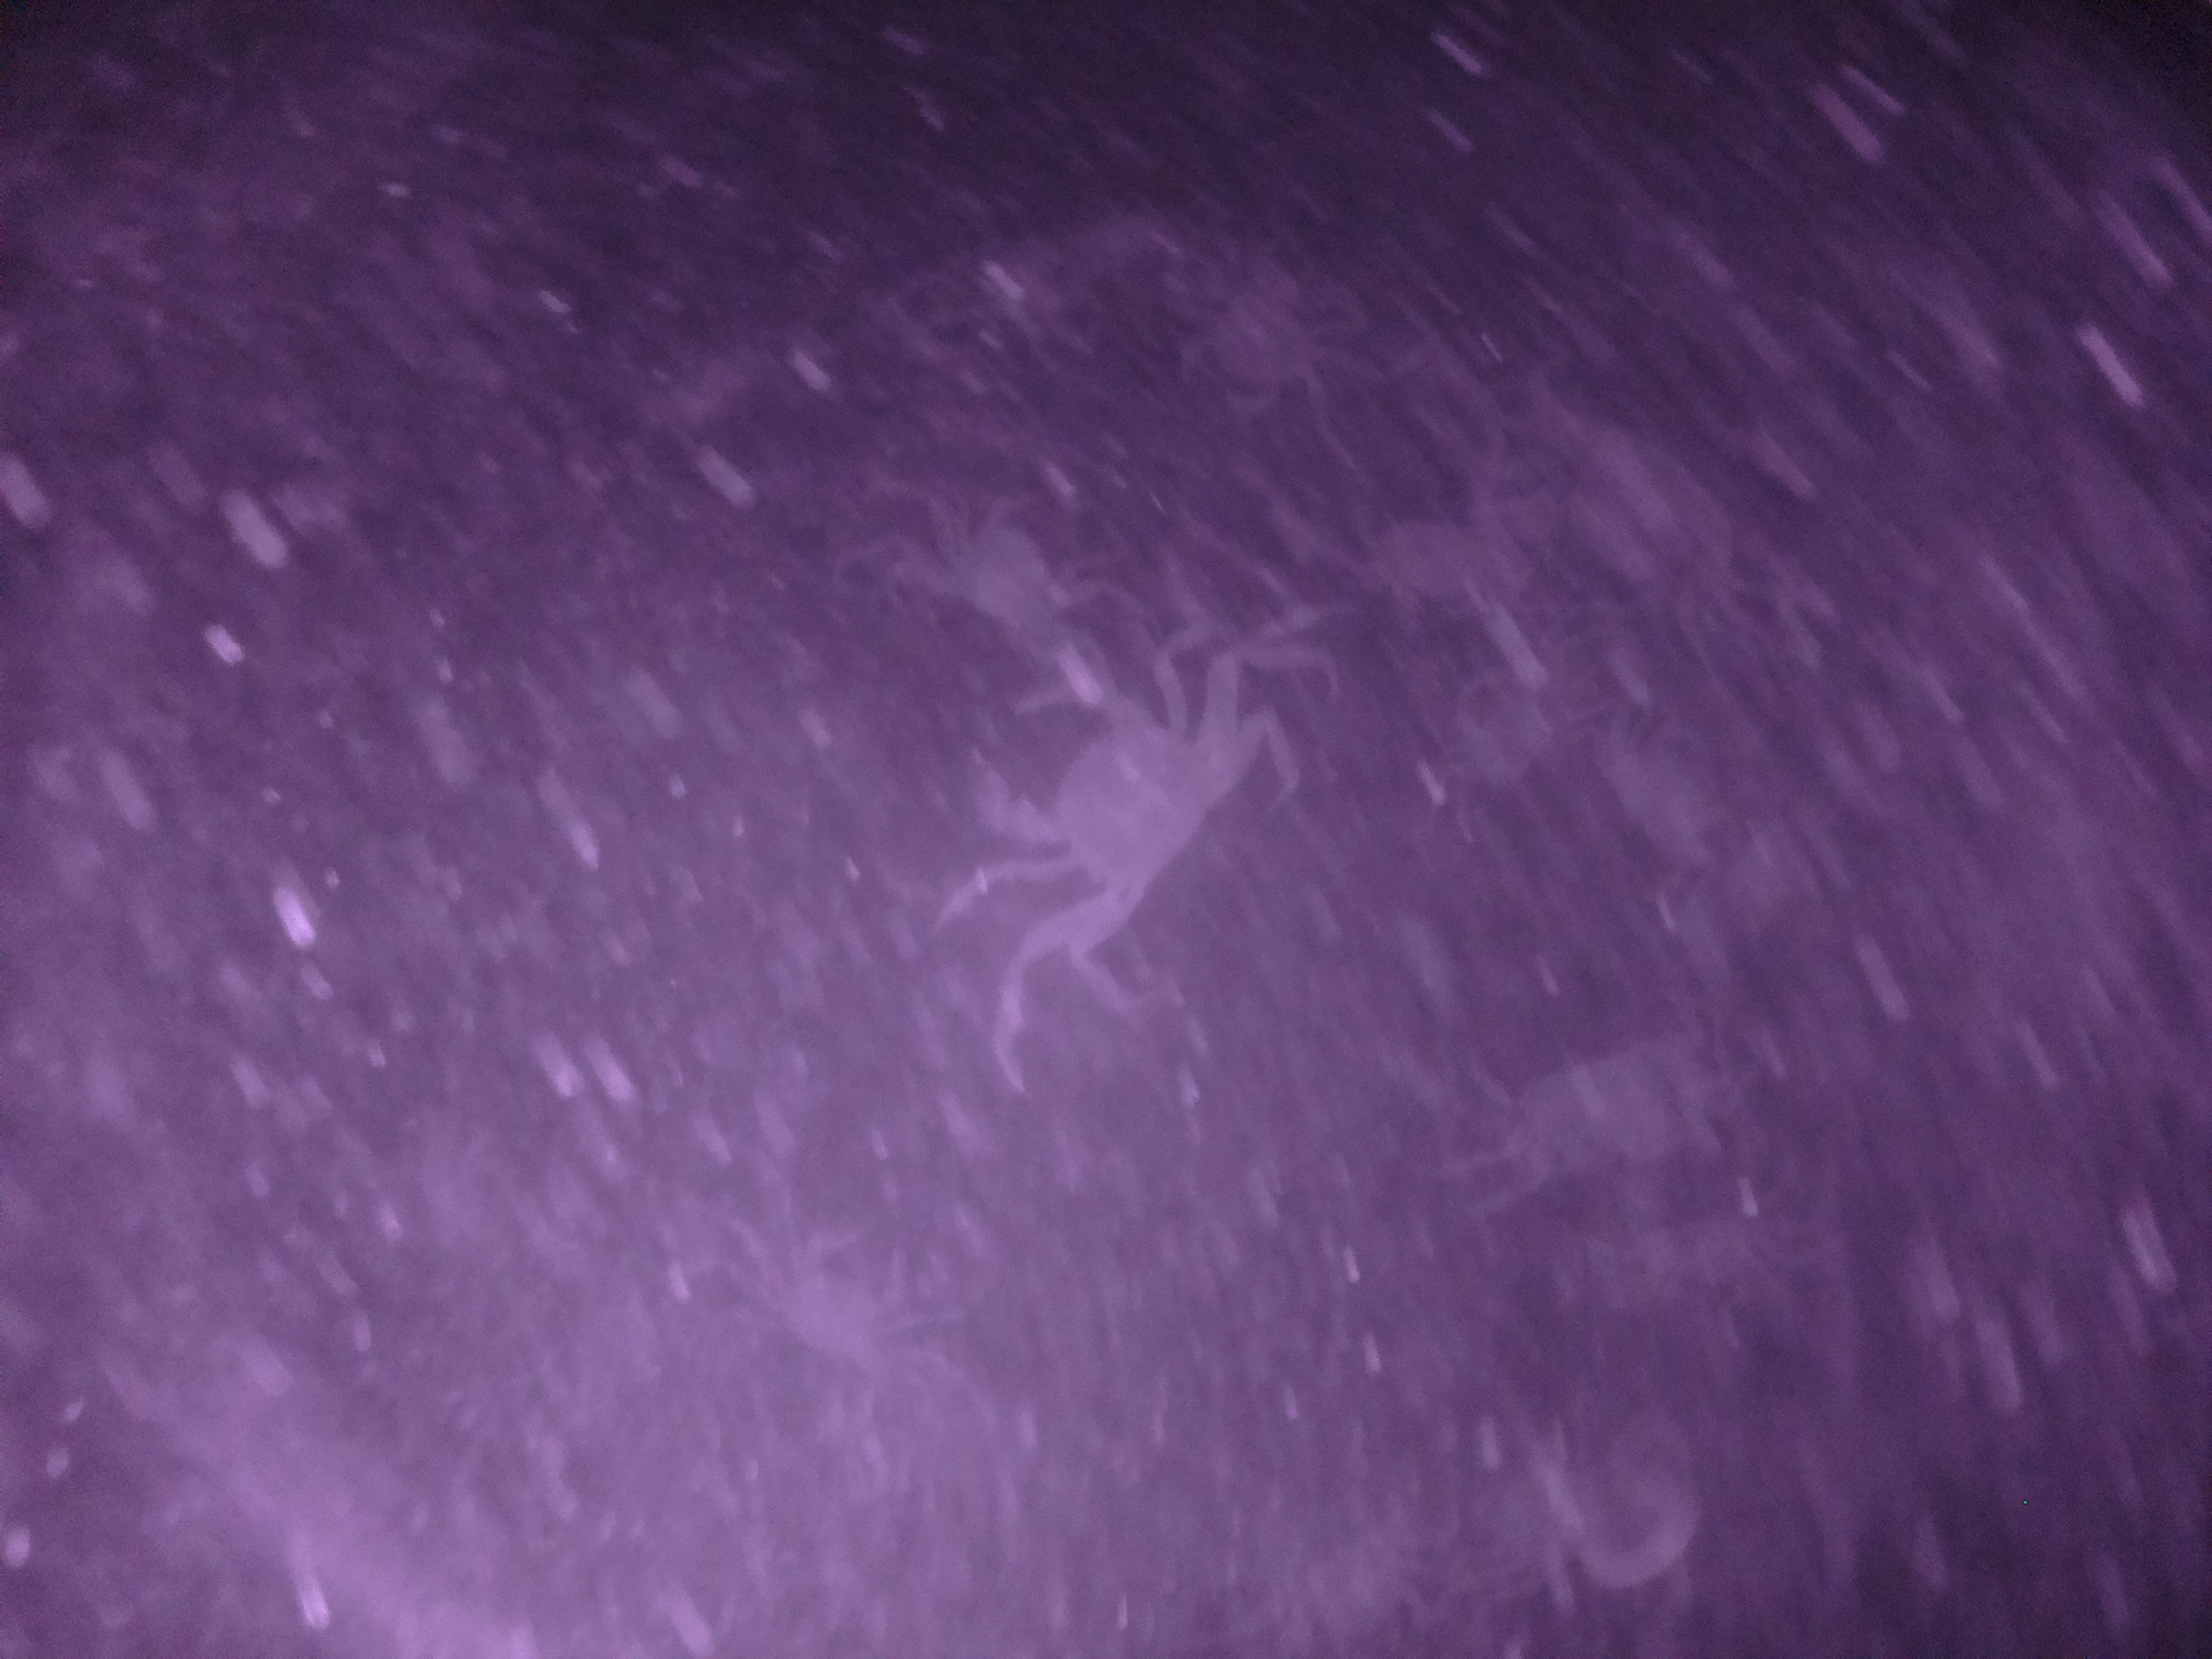Crab: (951, 653, 1256, 945), (944, 483, 1101, 652)
